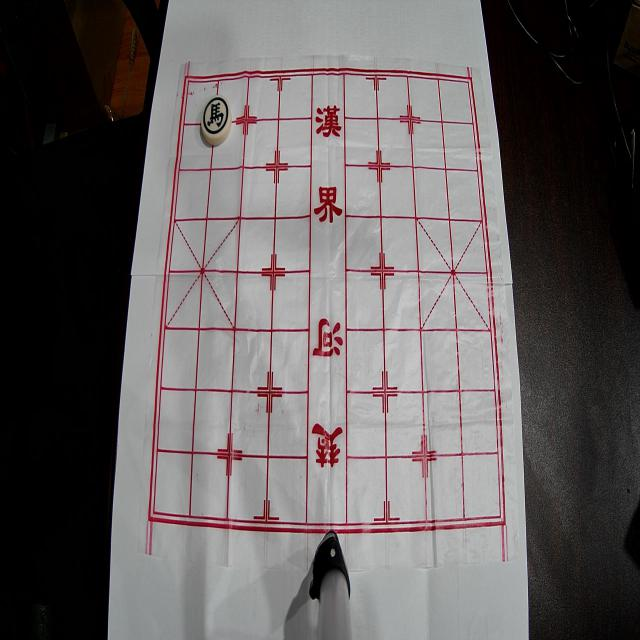black-horse: (201, 95, 232, 145)
